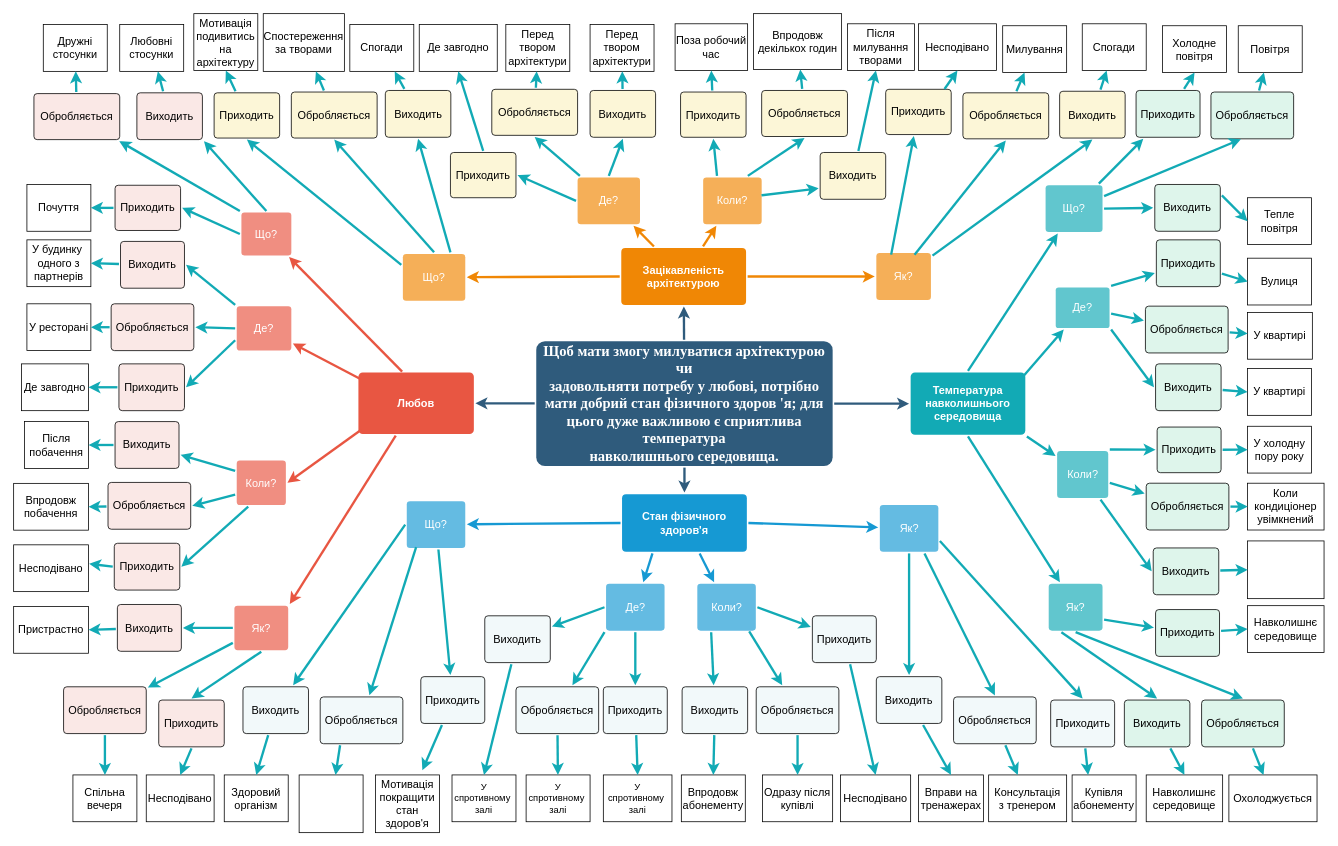
Some shapes in this 1338 by 846 pixel diagram are drawn without their labels. Here are the shapes that lost their labels. From the top down, the box of each, then its label:
(1247, 540, 1324, 599): Після проходження процесу охолодження
(298, 774, 363, 833): Пізнання про спортивний зал
